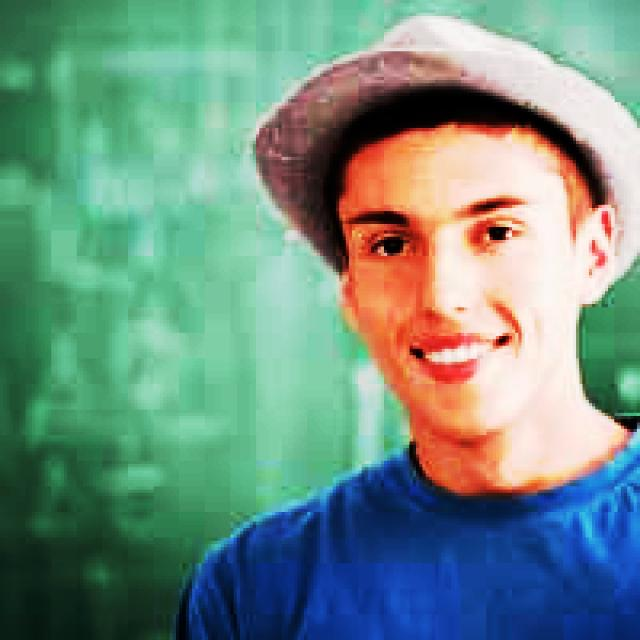TOPI: (240, 3, 637, 288)
